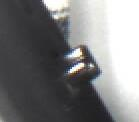screw: (52, 42, 103, 92)
